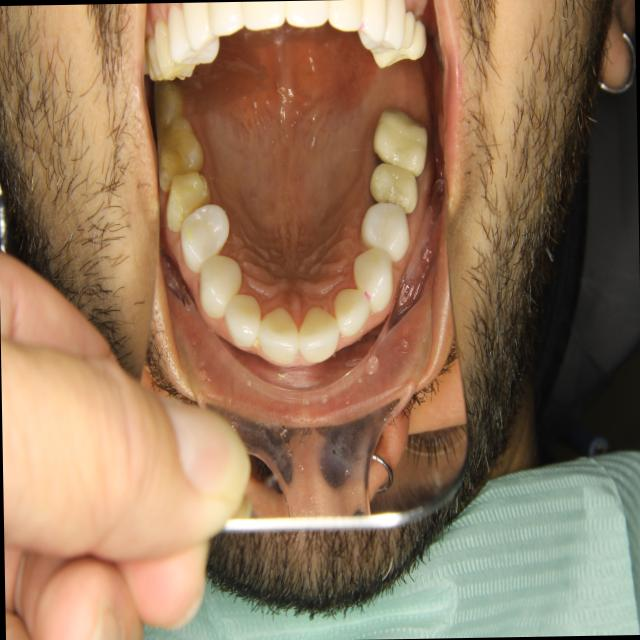tooth: (174, 190, 235, 278), (368, 92, 431, 175), (190, 244, 246, 324), (160, 159, 213, 238), (346, 237, 401, 312), (356, 195, 415, 264), (159, 112, 208, 190), (363, 156, 425, 215), (256, 291, 302, 370), (220, 277, 266, 354), (294, 295, 345, 361), (325, 275, 375, 339), (157, 79, 185, 126)
